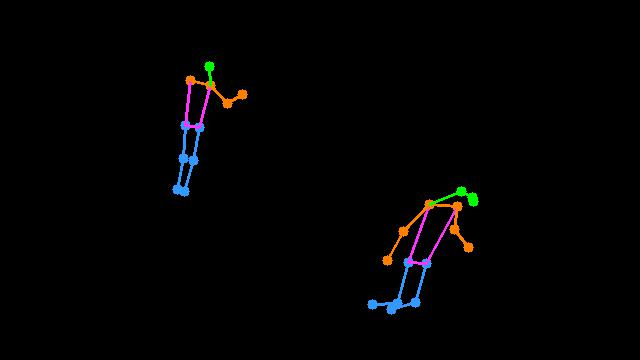normal: (348, 165, 491, 332), (151, 44, 260, 209)
